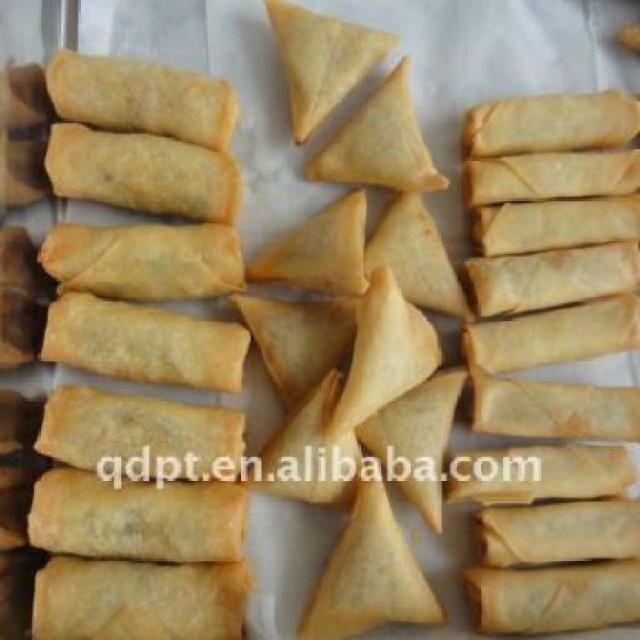spring rolls: (32, 36, 260, 638), (456, 77, 638, 638)
